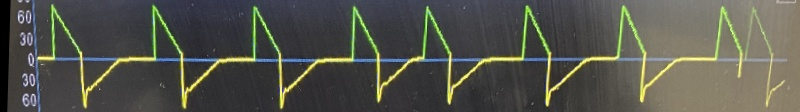normal_flow: (38, 0, 759, 112)
